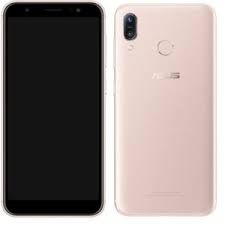asus: (110, 1, 220, 217), (1, 1, 104, 217)
